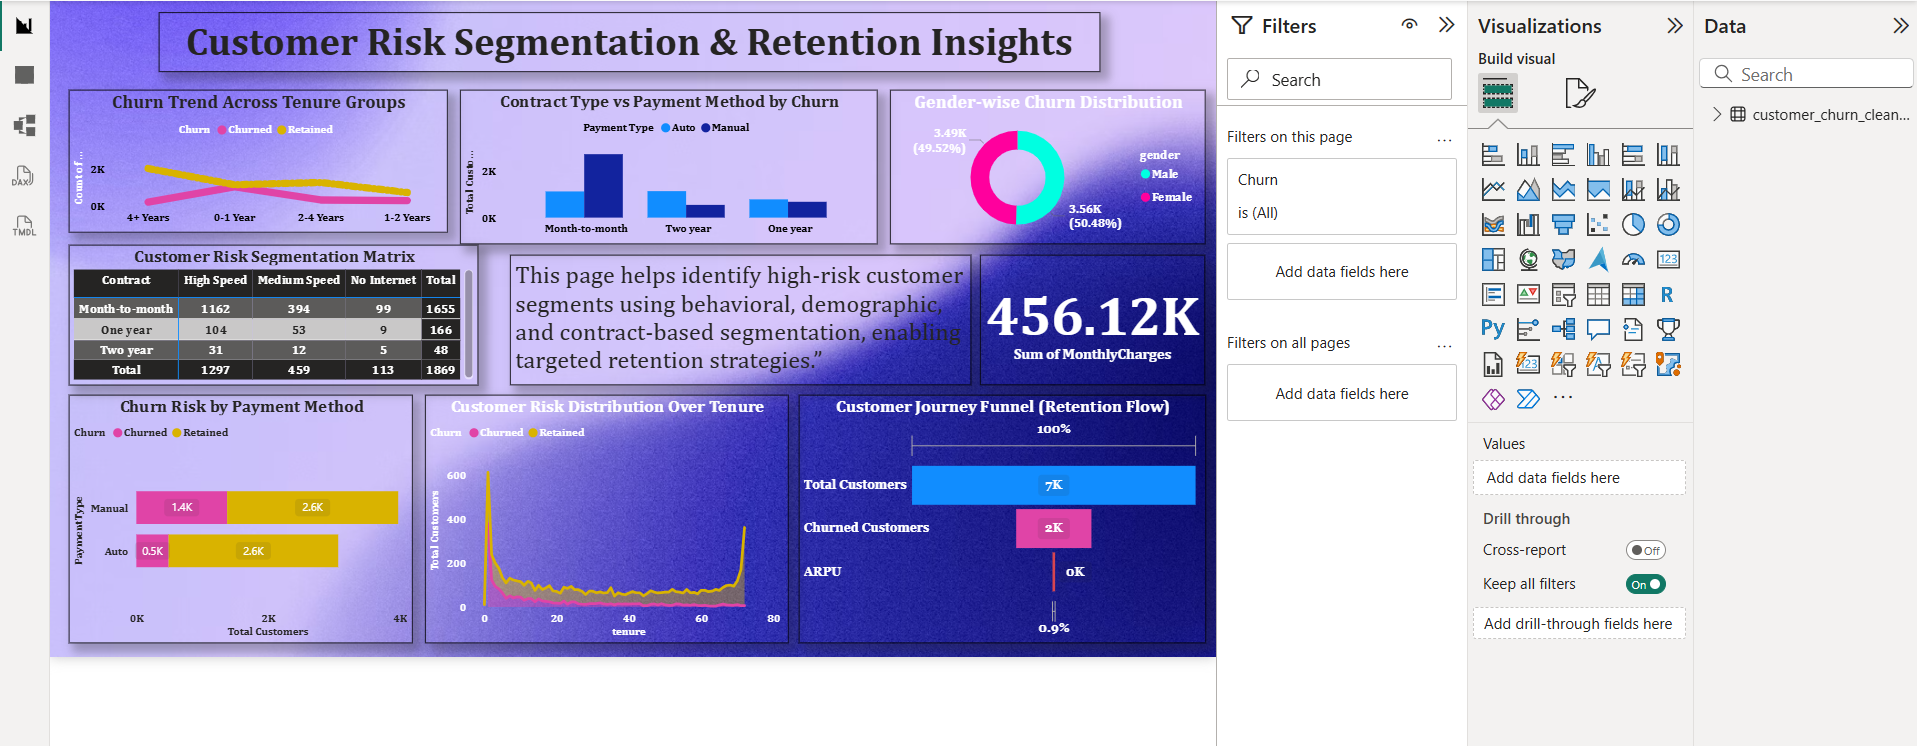

What the dashboard file says about the page in this screenshot:
{"tool":"powerbi","page":{"name":"Page 4","canvas":[1280,720],"ordinal":3},"visuals":[{"type":"textbox","box":[119.4,12.3,1033.3,65.9],"z":0},{"type":"card","title":"High Risk Customers","fields":{"Values":["Sum(customer_churn_cleaned.MonthlyCharges)"]},"box":[1021.4,278.7,247.6,142.9],"z":1000},{"type":"pivotTable","title":"Customer Risk Segmentation Matrix","fields":{"Rows":["customer_churn_cleaned.Contract"],"Columns":["customer_churn_cleaned.InternetType"],"Values":["customer_churn_cleaned.Churned Customers"]},"box":[21.2,267.4,449.9,154.2],"z":2000},{"type":"barChart","title":"Churn Risk by Payment Method","fields":{"Category":["customer_churn_cleaned.PaymentType"],"Series":["customer_churn_cleaned.Churn"],"Y":["customer_churn_cleaned.Total Customers"]},"box":[21.2,432.9,377.7,273],"z":3000},{"type":"donutChart","title":"Gender-wise Churn Distribution","fields":{"Category":["customer_churn_cleaned.gender"],"Y":["CountNonNull(customer_churn_cleaned.Churn)"]},"box":[922.4,97.6,346.6,169.8],"z":4000},{"type":"funnel","title":"Customer Journey Funnel (Retention Flow)","fields":{"Y":["customer_churn_cleaned.Total Customers","customer_churn_cleaned.Churned Customers","customer_churn_cleaned.ARPU"]},"box":[821.9,432.9,447,273],"z":5000},{"type":"lineChart","title":"Churn Trend Across Tenure Groups","fields":{"Category":["customer_churn_cleaned.TenureGroup"],"Y":["CountNonNull(customer_churn_cleaned.Churn)"],"Series":["customer_churn_cleaned.Churn"]},"box":[21.2,97.6,415.9,157],"z":6000},{"type":"clusteredColumnChart","title":"Contract Type vs Payment Method by Churn","fields":{"Category":["customer_churn_cleaned.Contract"],"Series":["customer_churn_cleaned.PaymentType"],"Y":["customer_churn_cleaned.Total Customers"]},"box":[449.9,97.6,458.4,169.8],"z":7000},{"type":"stackedAreaChart","title":"Customer Risk Distribution Over Tenure","fields":{"Category":["customer_churn_cleaned.tenure"],"Y":["customer_churn_cleaned.Total Customers"],"Series":["customer_churn_cleaned.Churn"]},"box":[411.7,432.9,398.9,273],"z":8000},{"type":"textbox","box":[505,278.7,506.5,142.9],"z":8001}]}

Visuals, with their boxes on the page's 1280x720 design canvas (x1, y1, x2, y2). These are canvas units, not pixel positions in the 1917x746 screenshot, which may show the page scaled, cropped or inside an application window:
textbox: rect(119, 12, 1153, 78)
"High Risk Customers" card: rect(1021, 279, 1269, 422)
"Customer Risk Segmentation Matrix" pivotTable: rect(21, 267, 471, 422)
"Churn Risk by Payment Method" barChart: rect(21, 433, 399, 706)
"Gender-wise Churn Distribution" donutChart: rect(922, 98, 1269, 267)
"Customer Journey Funnel (Retention Flow)" funnel: rect(822, 433, 1269, 706)
"Churn Trend Across Tenure Groups" lineChart: rect(21, 98, 437, 255)
"Contract Type vs Payment Method by Churn" clusteredColumnChart: rect(450, 98, 908, 267)
"Customer Risk Distribution Over Tenure" stackedAreaChart: rect(412, 433, 811, 706)
textbox: rect(505, 279, 1012, 422)
